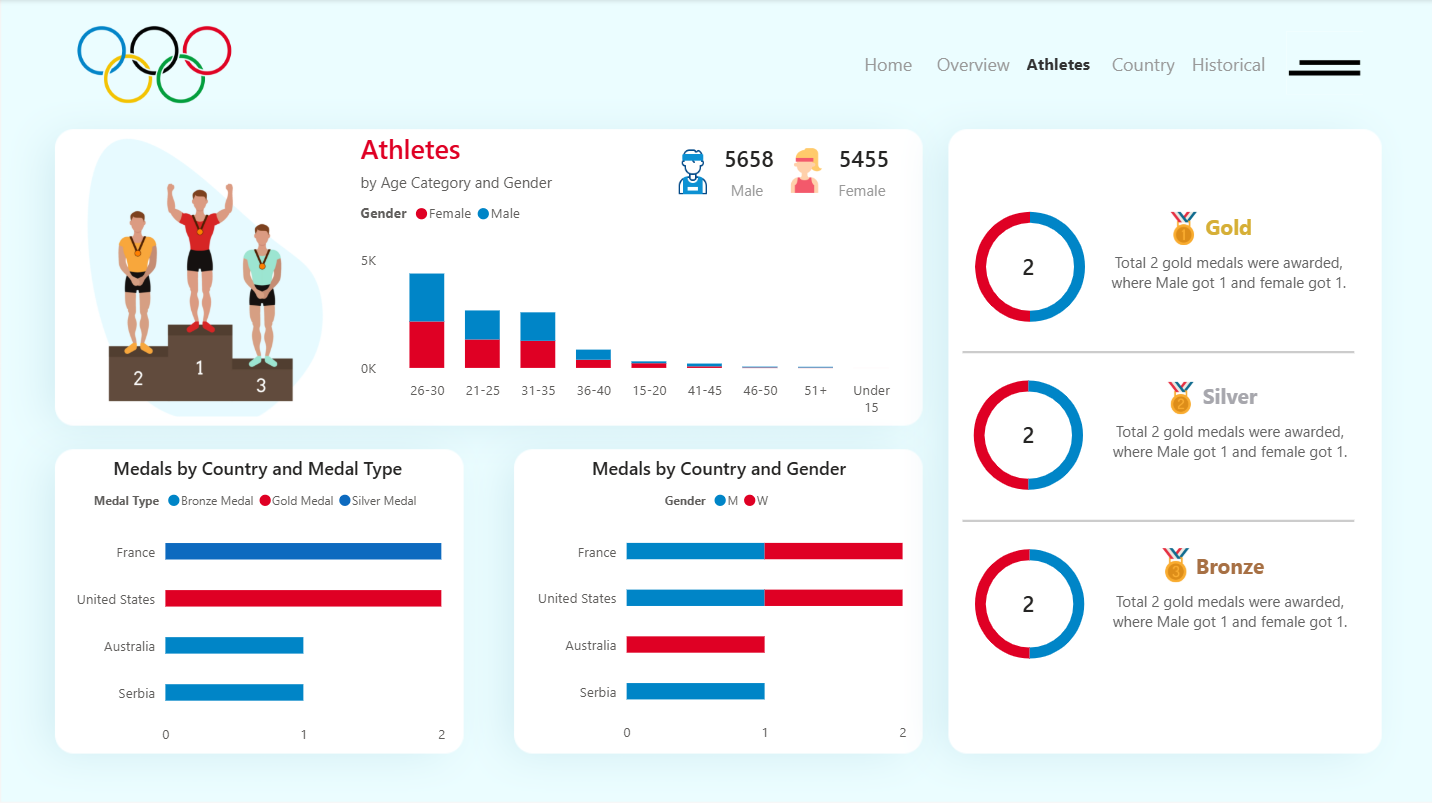

This screenshot's page, from the dashboard's own definition file:
{"tool":"powerbi","page":{"name":"Athletes","canvas":[1280,720],"ordinal":2},"visuals":[{"type":"donutChart","title":"Gold","fields":{"Y":["Medals.Total Gold Medals Country"],"Category":["Medals.gender"]},"box":[846.3,173.2,148,132.8],"z":0,"group":"g1"},{"type":"barChart","title":"Medals by Country and Medal Type","fields":{"Category":["Medals.country"],"Y":["Medals.Total Country Medals"],"Series":["Medals.medal_type"]},"box":[56.9,407.2,346.5,266.8],"z":0},{"type":"barChart","title":"Medals by Country and Gender","fields":{"Category":["Medals.country"],"Y":["Medals.Total Country Medals"],"Series":["Medals.gender"]},"box":[469.2,407.2,346.5,265.6],"z":1000},{"type":"donutChart","title":"Gold","fields":{"Y":["Medals.Total Bronze Medals Country"],"Category":["Medals.gender"]},"box":[846.3,474.2,147,132],"z":1000,"group":"g1"},{"type":"donutChart","title":"Gold","fields":{"Y":["Medals.Total Silver Medals Country"],"Category":["Medals.gender"]},"box":[845.7,324.1,147,132],"z":2000,"group":"g1"},{"type":"image","box":[1034.4,336.9,41.4,38.4],"z":2000},{"type":"card","title":"Gold","fields":{"Values":["Medals.Total Gold Medals Country"]},"box":[894.1,211.1,51.8,59.4],"z":3000,"group":"g1"},{"type":"image","box":[1030,486.2,41.4,39.9],"z":3000},{"type":"textbox","title":"Gold","box":[978.5,191,239,97.4],"z":4000},{"type":"card","title":"Bronze","fields":{"Values":["Medals.Total Bronze Medals Country"]},"box":[894.1,508.3,51.8,68.3],"z":4000,"group":"g1"},{"type":"image","box":[1035.7,185.9,43,39.2],"z":5000},{"type":"card","title":"Silver","fields":{"Values":["Medals.Total Silver Medals Country"]},"box":[894.1,360.4,51.8,59.4],"z":5000,"group":"g1"},{"type":"image","box":[57.1,0,163,116],"z":6000},{"type":"textbox","title":"Silver","box":[978.8,342.1,239,97.4],"z":7000},{"type":"textbox","title":"Bronze","box":[978.8,493.2,239,97.4],"z":8000},{"type":"image","box":[38.2,99.7,273.3,278.2],"z":9000},{"type":"columnChart","title":"Athletes","fields":{"Category":["Athletes.Age Category"],"Y":["Key Measures.Total Athletes"],"Series":["Athletes.gender"]},"box":[317,117.3,502.6,262.9],"z":10000},{"type":"card","title":"Gold","fields":{"Values":["Key Measures.Total Female Athletes"]},"box":[743.4,123.9,56.7,58],"z":11000},{"type":"card","title":"Gold","fields":{"Values":["Key Measures.Total Male Athletes"]},"box":[639.9,123.5,58.9,58.9],"z":12000},{"type":"group","id":"g1","title":"Group 1","box":[845.7,173.2,148.5,433],"z":13000},{"type":"image","box":[696.1,127.9,50,50],"z":14000},{"type":"image","box":[592.6,127.9,52,52],"z":15000},{"type":"pageNavigator","box":[759.9,32.6,370,50.2],"z":16000},{"type":"shape","box":[859.5,459.1,350,14.5],"z":16250},{"type":"shape","box":[859.5,307.9,350,14.5],"z":16500},{"type":"actionButton","box":[1149.2,29.3,68.5,56.2],"z":19000}]}

Visuals, with their boxes in screenshot pixels (x1, y1, x2, y2), scaled from the page's 1280x720 canvas onto the 1432x805 screenshot:
"Gold" donutChart: (947,194,1112,342)
"Medals by Country and Medal Type" barChart: (64,455,451,754)
"Medals by Country and Gender" barChart: (525,455,913,752)
"Gold" donutChart: (947,530,1111,678)
"Gold" donutChart: (946,362,1111,510)
image: (1157,377,1204,420)
"Gold" card: (1000,236,1058,302)
image: (1152,544,1199,588)
"Gold" textbox: (1095,214,1362,322)
"Bronze" card: (1000,568,1058,645)
image: (1159,208,1207,252)
"Silver" card: (1000,403,1058,469)
image: (64,0,246,130)
"Silver" textbox: (1095,382,1362,491)
"Bronze" textbox: (1095,551,1362,660)
image: (43,111,348,423)
"Athletes" columnChart: (355,131,917,425)
"Gold" card: (832,139,895,203)
"Gold" card: (716,138,782,204)
"Group 1" group: (946,194,1112,678)
image: (779,143,835,199)
image: (663,143,721,201)
pageNavigator: (850,36,1264,93)
shape: (962,513,1353,530)
shape: (962,344,1353,360)
actionButton: (1286,33,1362,96)
